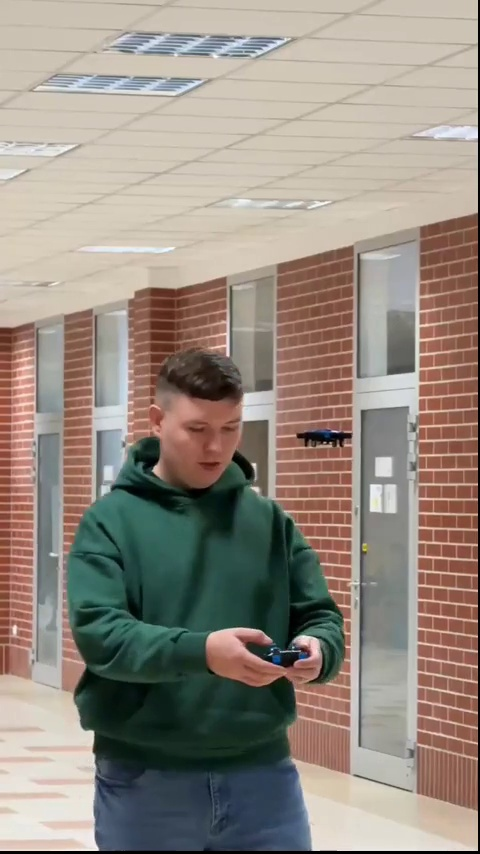drone: (294, 424, 353, 451)
no vest: (80, 350, 344, 854)
